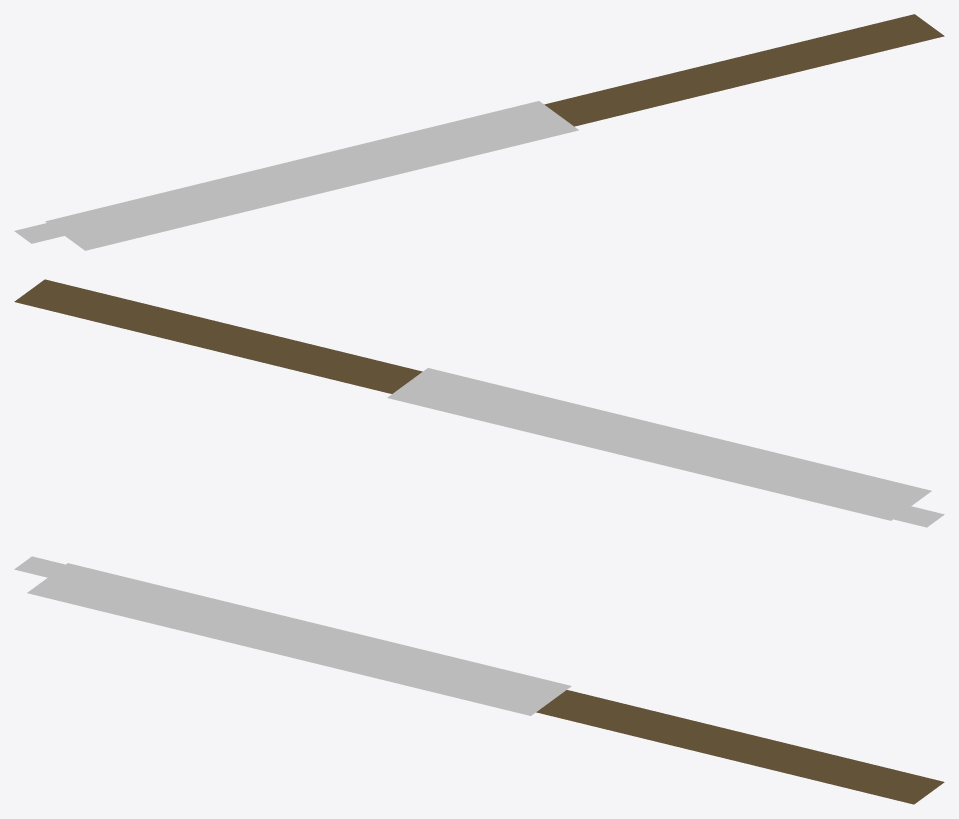
File: knife.fbx
The picture shows the model from 3 angles, top to bottom: view 1: azimuth 30°, elevation 25°; view 2: azimuth 150°, elevation 25°; view 3: azimuth 330°, elevation 25°; orthographic projection. The views are drawn at different scales.
Visible parts, largest first — view 1: knife; view 2: knife; view 3: knife.
Part boxes in pixels (x1,y1,x2,y2): knife: (14, 14, 944, 250); knife: (14, 279, 944, 527); knife: (14, 556, 944, 804).
Bounding box in the file's own units: 42.35 × 5.36e-07 × 3.29.
